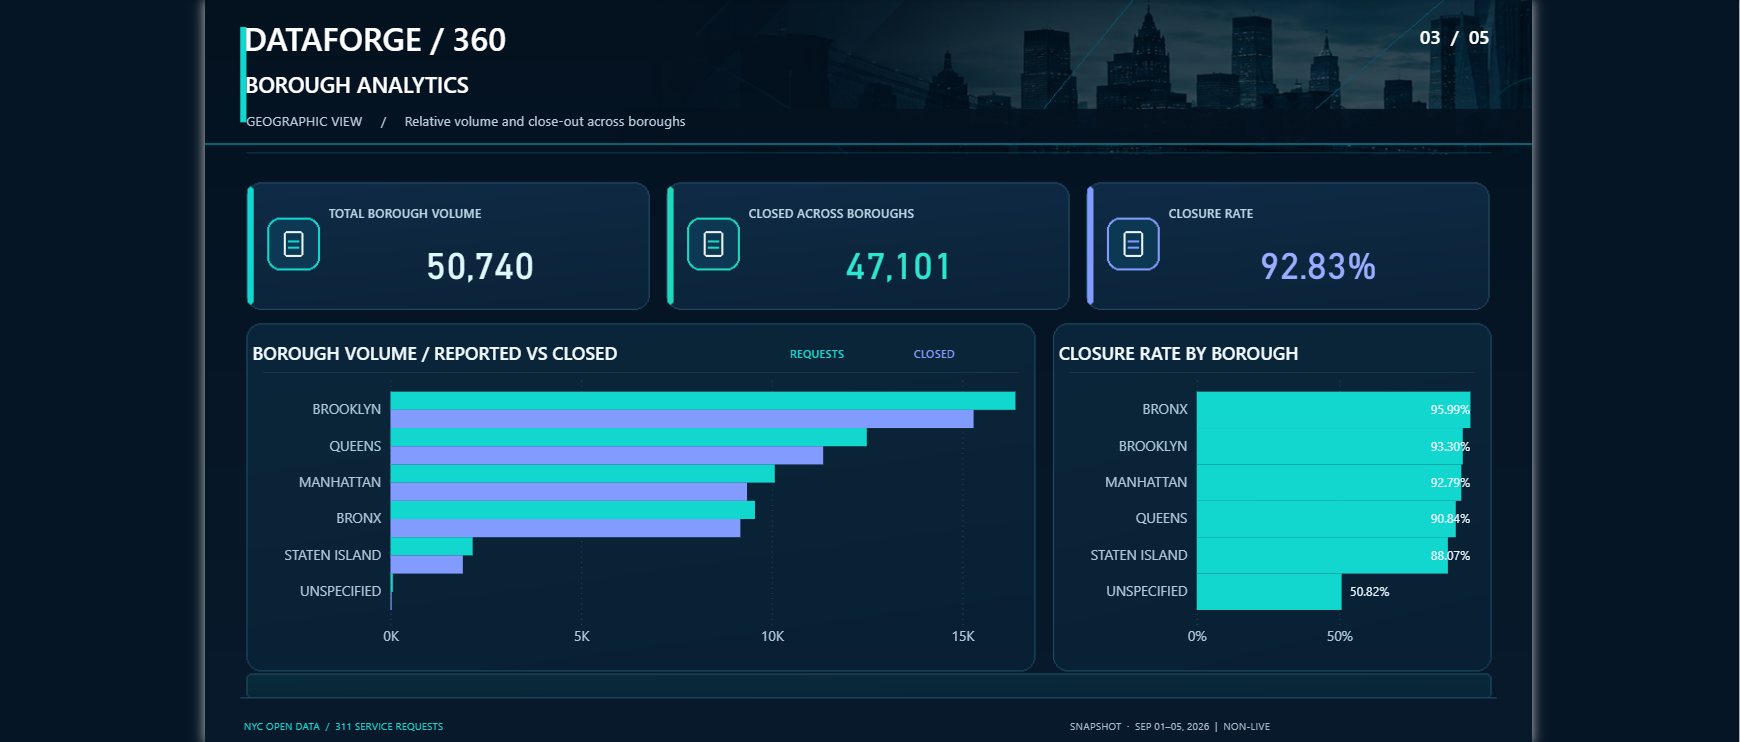

Layout of this report page (visuals, bound fields, positions):
{"tool":"powerbi","page":{"name":"Borough Analytics","canvas":[1280,720],"ordinal":2},"visuals":[{"type":"textbox","box":[37,17,700,45],"z":5},{"type":"textbox","box":[39,69,960,32],"z":6},{"type":"textbox","box":[40,108,1040,25],"z":7},{"type":"textbox","box":[1160,24,91,29],"z":8},{"type":"textbox","box":[37,691,570,23],"z":9},{"type":"textbox","box":[835,691,403,23],"z":10},{"type":"textbox","box":[120,197,293,27],"z":40},{"type":"textbox","box":[525,197,293,27],"z":41},{"type":"textbox","box":[930,197,293,27],"z":42},{"type":"card","fields":{"Values":["borough.Borough Requests"]},"box":[117,218,296,73],"z":50},{"type":"card","fields":{"Values":["borough.Borough Closed"]},"box":[522,218,296,73],"z":51},{"type":"card","fields":{"Values":["borough.Borough Closure Rate"]},"box":[927,218,296,73],"z":52},{"type":"clusteredBarChart","title":"BOROUGH VOLUME  /  REPORTED VS CLOSED","fields":{"Category":["borough.label"],"Y":["borough.Borough Requests","borough.Borough Closed"]},"box":[40,323,760,326],"z":92},{"type":"barChart","title":"CLOSURE RATE BY BOROUGH","fields":{"Category":["borough.label"],"Y":["borough.Borough Closure Rate"]},"box":[818,323,422,326],"z":93},{"type":"textbox","box":[565,332,100,28],"z":131},{"type":"textbox","box":[684,332,100,28],"z":133}]}

Visuals, with their boxes on the page's 1280x720 design canvas (x1, y1, x2, y2). These are canvas units, not pixel positions in the 1740x742 screenshot, which may show the page scaled, cropped or inside an application window:
textbox: BBox(37, 17, 737, 62)
textbox: BBox(39, 69, 999, 101)
textbox: BBox(40, 108, 1080, 133)
textbox: BBox(1160, 24, 1251, 53)
textbox: BBox(37, 691, 607, 714)
textbox: BBox(835, 691, 1238, 714)
textbox: BBox(120, 197, 413, 224)
textbox: BBox(525, 197, 818, 224)
textbox: BBox(930, 197, 1223, 224)
card - borough.Borough Requests: BBox(117, 218, 413, 291)
card - borough.Borough Closed: BBox(522, 218, 818, 291)
card - borough.Borough Closure Rate: BBox(927, 218, 1223, 291)
"BOROUGH VOLUME  /  REPORTED VS CLOSED" clusteredBarChart: BBox(40, 323, 800, 649)
"CLOSURE RATE BY BOROUGH" barChart: BBox(818, 323, 1240, 649)
textbox: BBox(565, 332, 665, 360)
textbox: BBox(684, 332, 784, 360)
